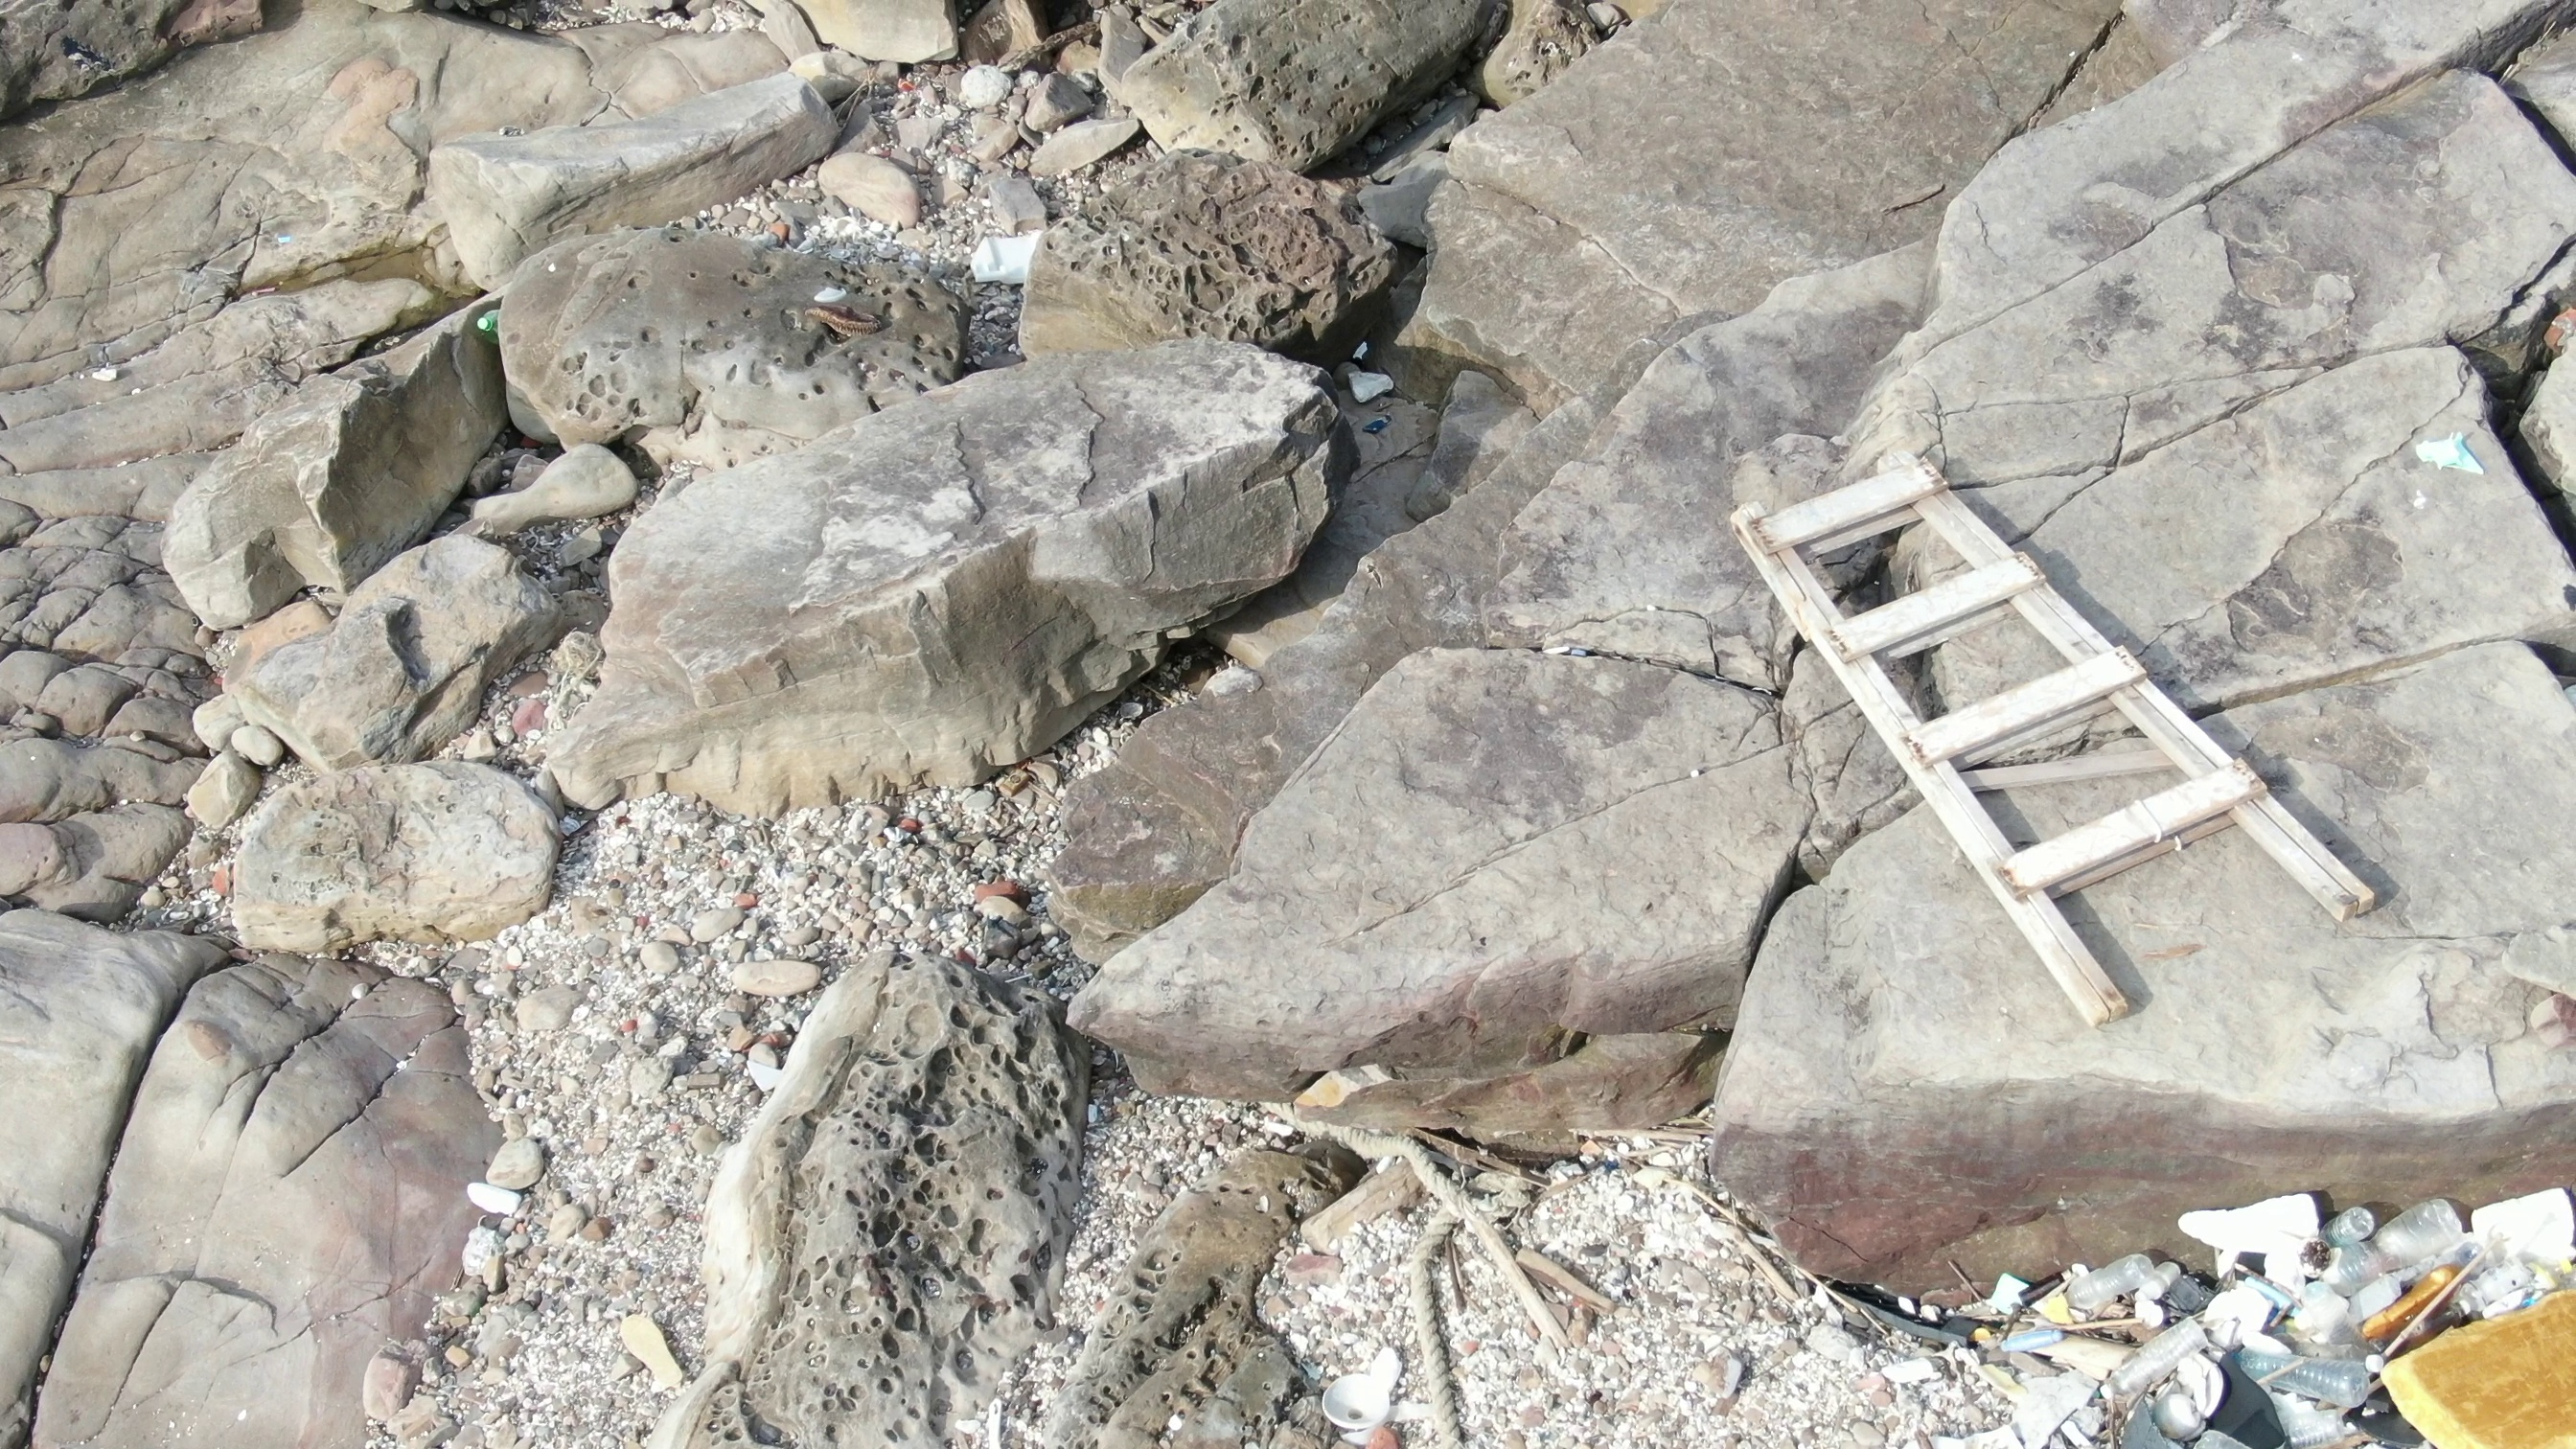bottle: (2226, 1329, 2376, 1414), (2093, 1313, 2204, 1408), (2388, 1185, 2488, 1260), (2065, 1246, 2158, 1323), (462, 295, 522, 349), (2327, 1205, 2385, 1249)
garbage: (1709, 435, 2419, 1040), (1960, 1177, 2576, 1447), (961, 226, 1067, 294), (2419, 410, 2488, 488)
